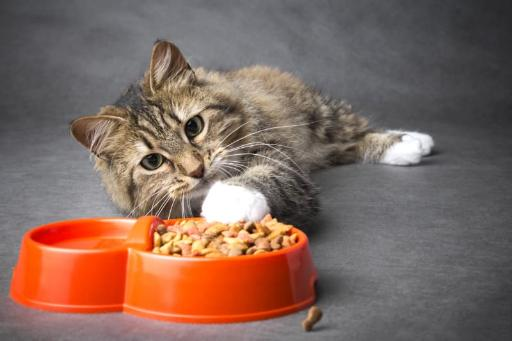cat_eating: (11, 41, 433, 323)
